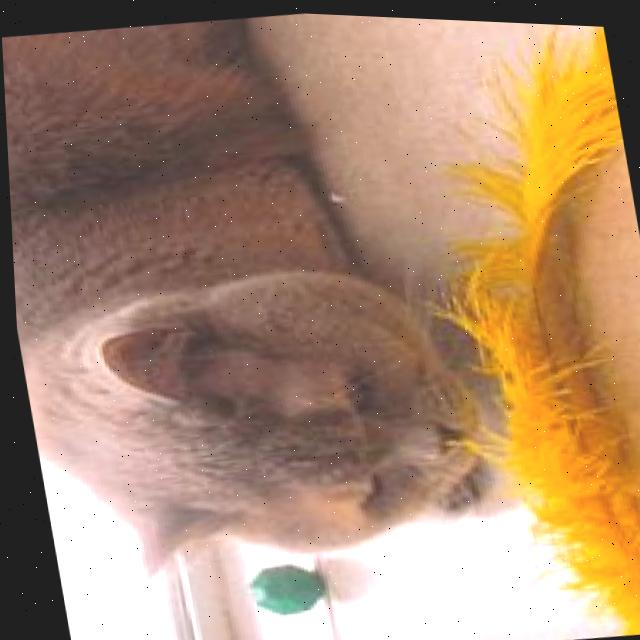British Shorthair: (0, 0, 506, 608)
